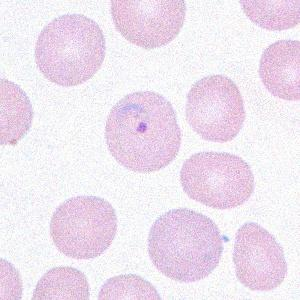Infected: (105, 89, 182, 173)
Uninfected: (149, 209, 224, 283), (34, 13, 105, 86), (49, 195, 117, 259), (180, 153, 254, 209), (186, 76, 245, 142), (109, 0, 185, 48), (234, 223, 286, 292), (261, 41, 300, 102)
